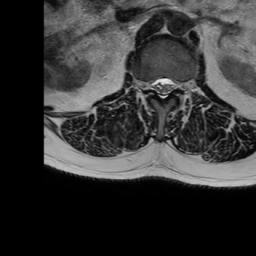CCS_normal: (160, 72, 166, 106)
LFS_normal: (175, 77, 182, 97)
LLS_normal: (166, 74, 174, 100)
RFS_normal: (142, 76, 152, 97)
RLS_normal: (151, 74, 160, 100)
